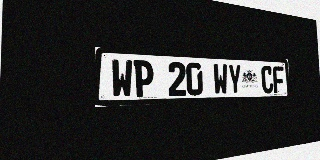0: (186, 62, 203, 96)
2: (168, 61, 186, 96)
C: (261, 65, 273, 93)
F: (273, 66, 284, 93)
P: (133, 60, 154, 97)
W: (111, 59, 133, 98), (213, 63, 228, 95)
Y: (227, 64, 242, 94)
